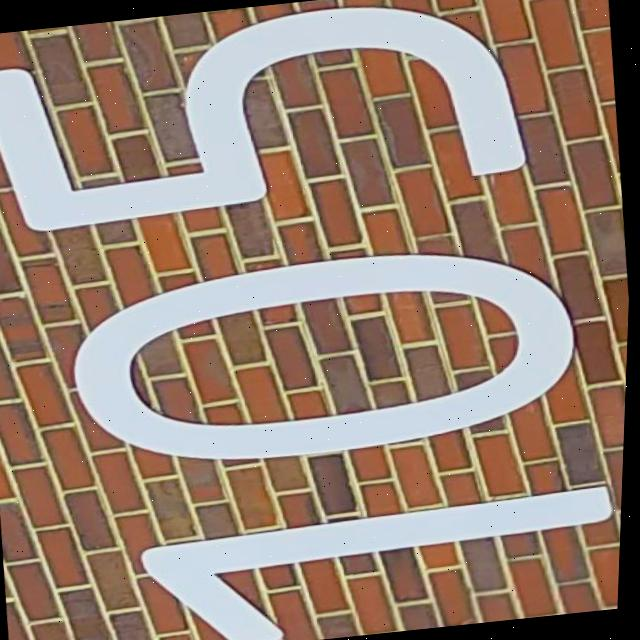character: (54, 226, 593, 487), (0, 0, 536, 241), (120, 474, 622, 640)
